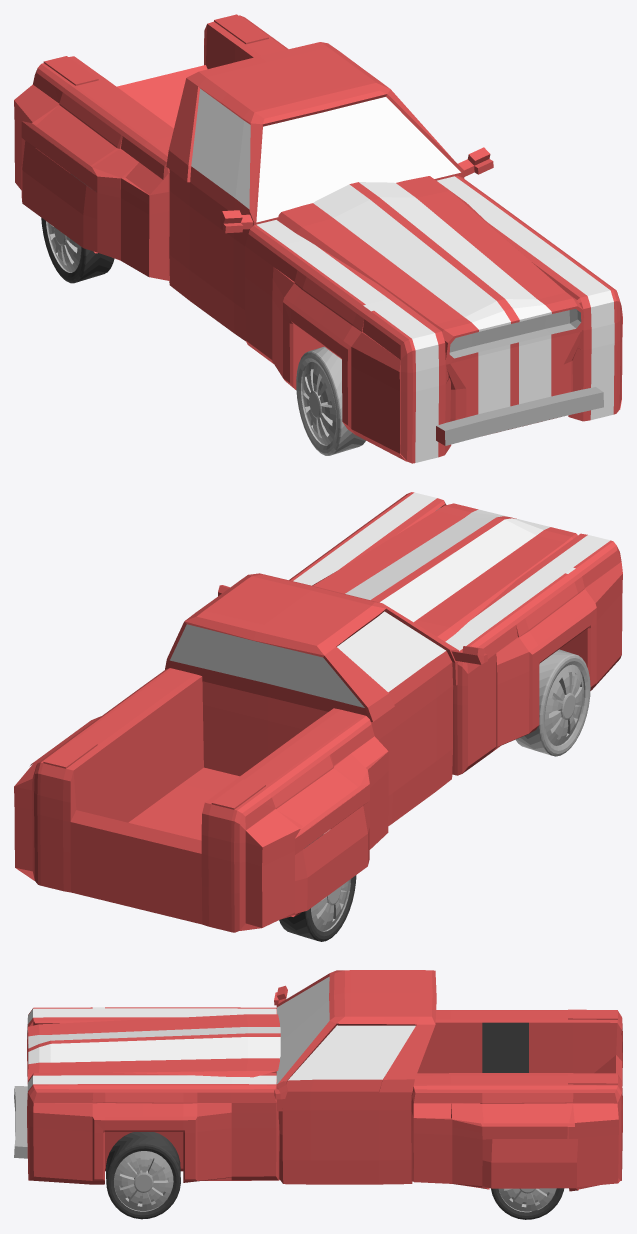
The model's file is CAR4_LF.fbx.
3 views of the same model, one above another, from view 1: azimuth 30°, elevation 25°; view 2: azimuth 150°, elevation 25°; view 3: azimuth 270°, elevation 25° (orthographic). The views are drawn at different scales.
Visible parts, largest first — view 1: Merged_Resizing_Car:Group64469; view 2: Merged_Resizing_Car:Group64469; view 3: Merged_Resizing_Car:Group64469.
Part boxes in pixels (x1,y1,x2,y2): Merged_Resizing_Car:Group64469: (14,14,622,463); Merged_Resizing_Car:Group64469: (14,492,622,941); Merged_Resizing_Car:Group64469: (14,970,622,1219).
Bounding box in the file's own units: 7.85 × 6.1 × 18.36.
